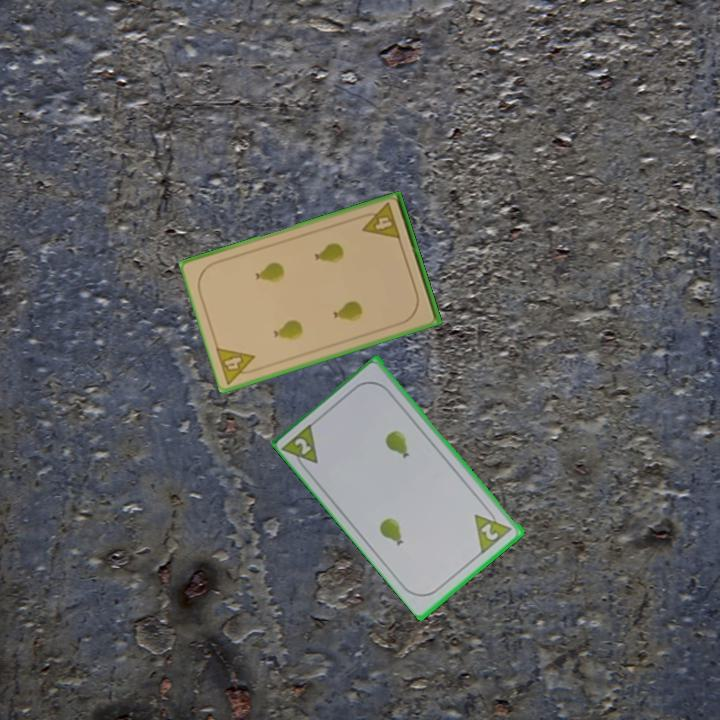2p: (471, 502, 516, 556), (280, 419, 322, 475)
4p: (212, 344, 263, 387), (356, 199, 403, 243)
